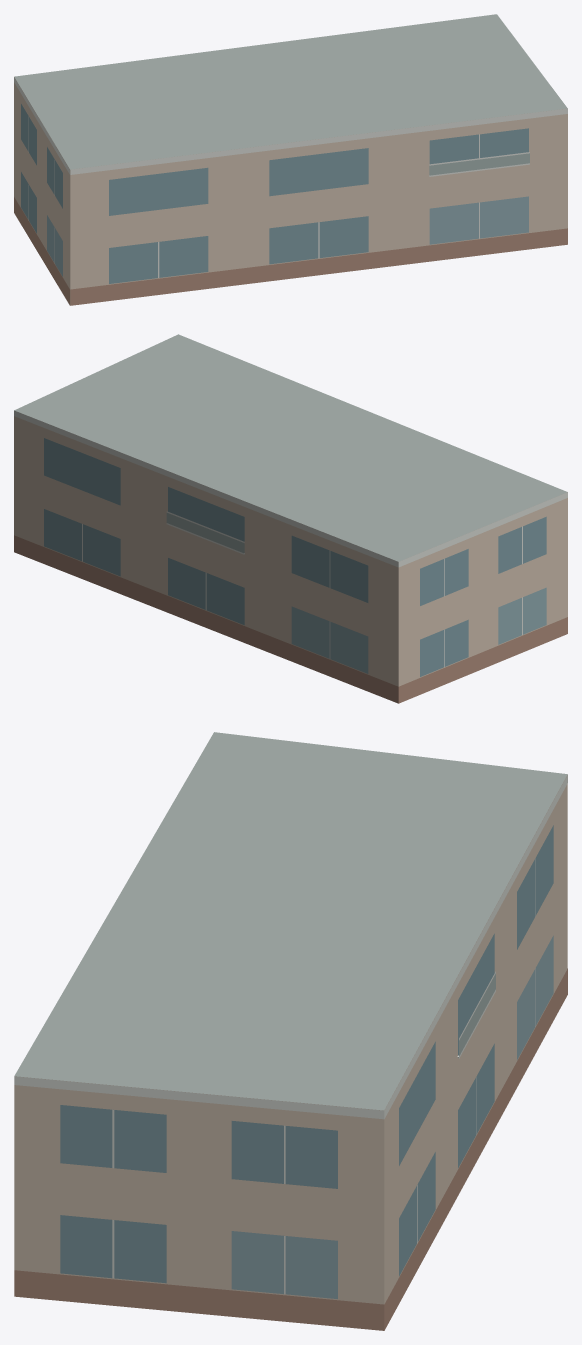
Rendered from survey-upis-32913742.glb.
3 renders of one model, top to bottom at view 1: azimuth 30°, elevation 25°; view 2: azimuth 150°, elevation 25°; view 3: azimuth 270°, elevation 25°, orthographic. The views are drawn at different scales.
Visible parts, largest first — view 1: survey-upis-32913742.tmp; view 2: survey-upis-32913742.tmp; view 3: survey-upis-32913742.tmp.
Part boxes in pixels (<box>): survey-upis-32913742.tmp: <box>14,14,567,305</box>; survey-upis-32913742.tmp: <box>14,334,567,703</box>; survey-upis-32913742.tmp: <box>14,732,567,1330</box>.
Bounding box in the file's own units: 22.48 × 6.1 × 13.9.
